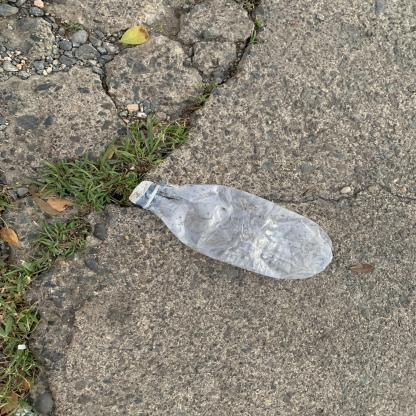Clear plastic bottle: (129, 178, 333, 279)
Plastic bottle cap: (129, 180, 153, 204)
